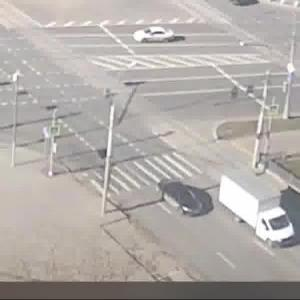car: (221, 170, 300, 249), (158, 180, 211, 220), (132, 26, 179, 47)
